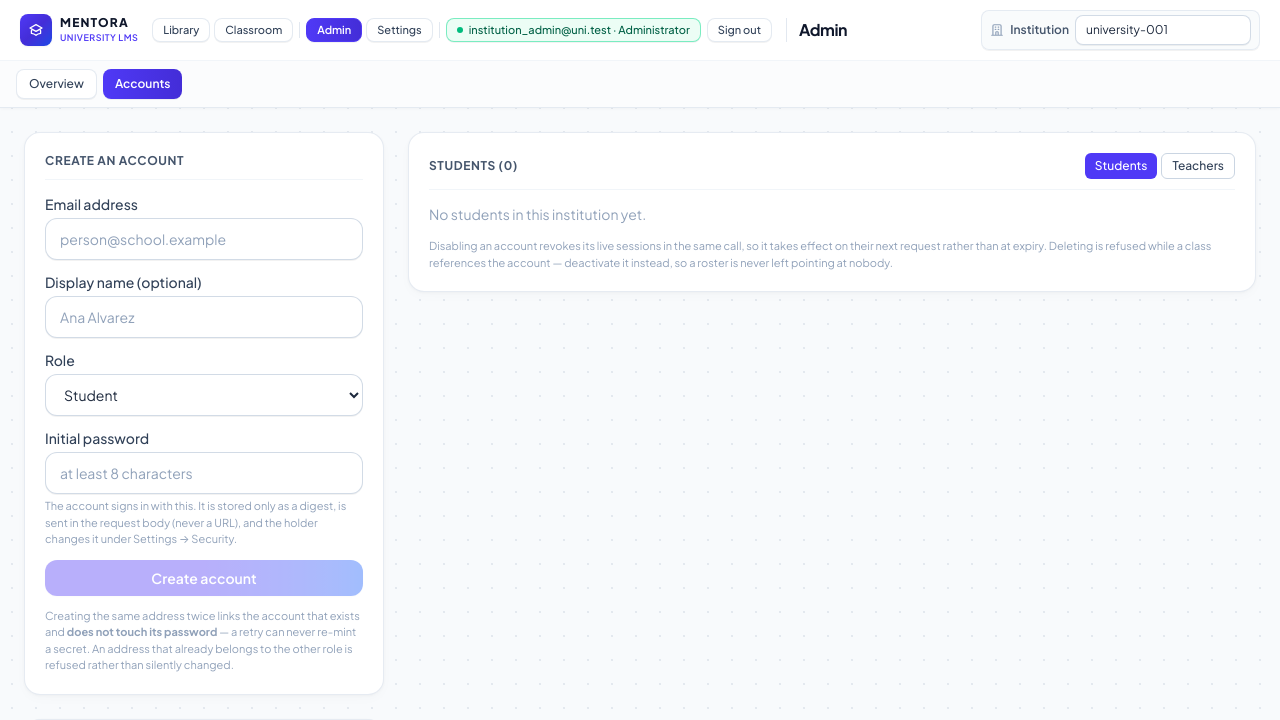
Scenario: AdminPage — the directory, by capability › creates a teacher with a password the administrator chooses
This screenshot has width=1280, height=720.
Type "new@school.example" into the field labelled "Email address" at (204, 239), box [45,218,363,260]
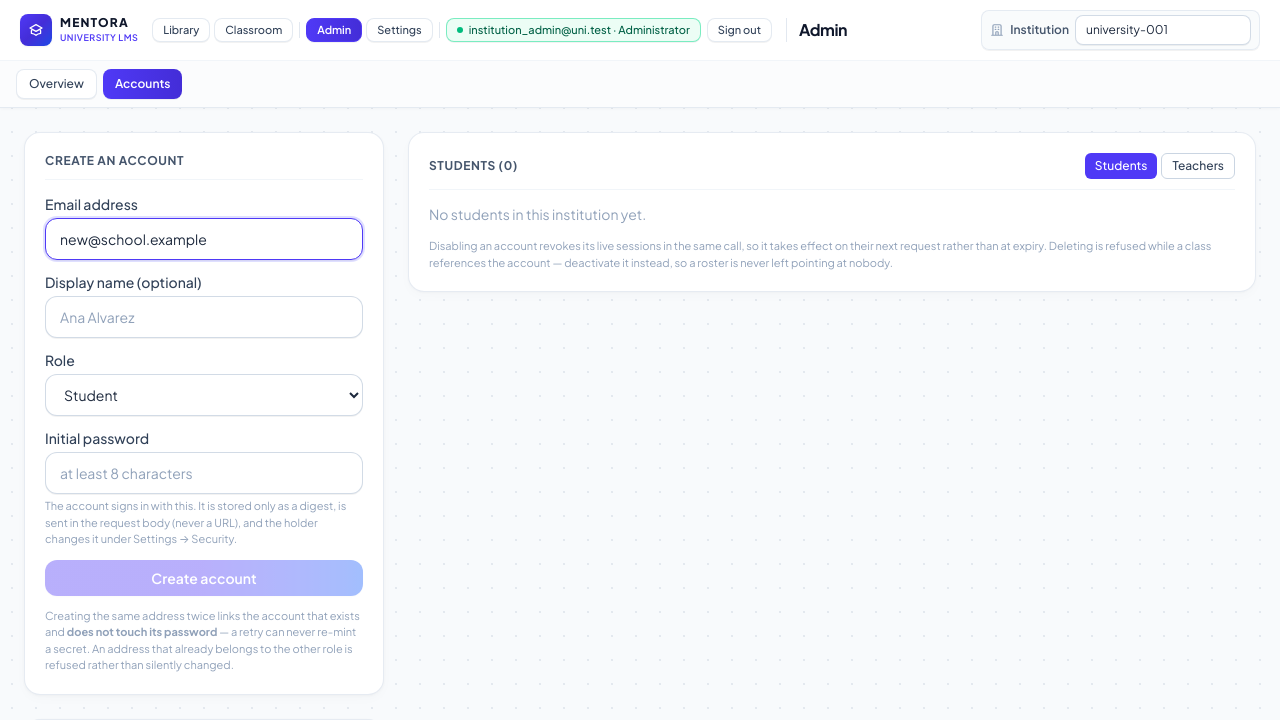
Select "Teacher" in the dropdown labelled "Role" at (204, 395), box [45,374,363,416]
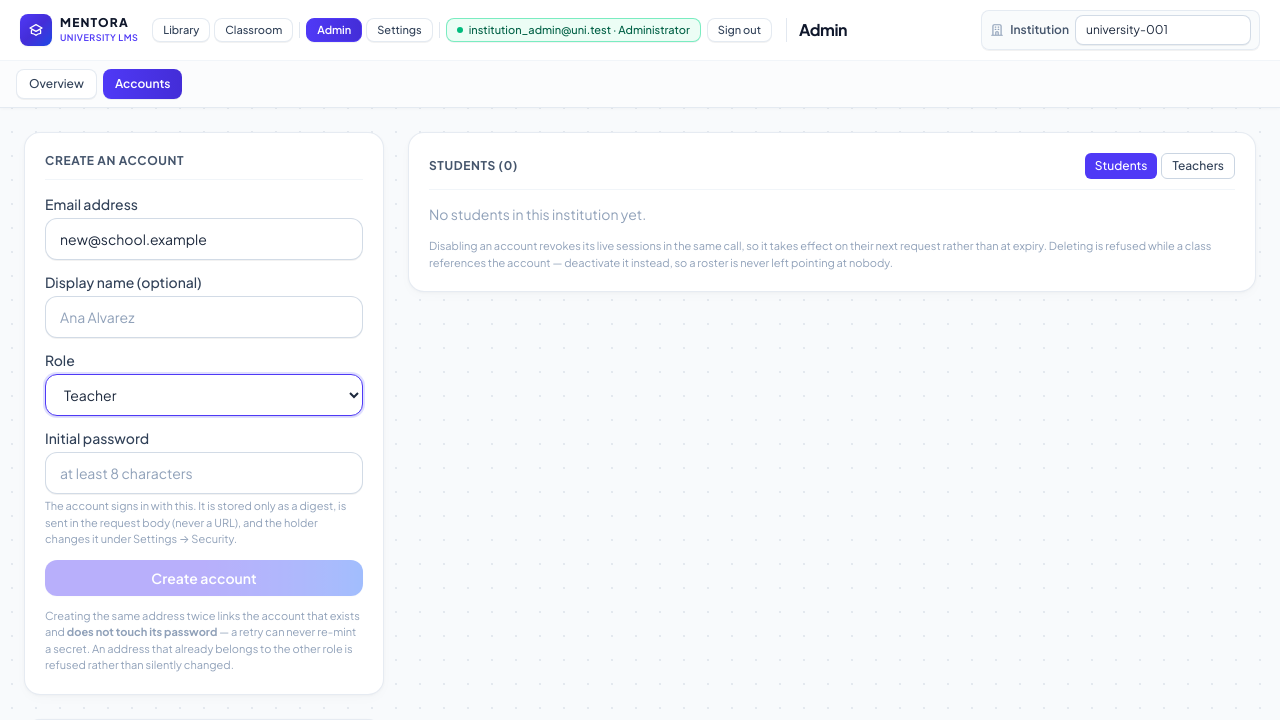
Type "new-pass-1" into the password field labelled "Initial password" at (204, 473), box [45,452,363,494]
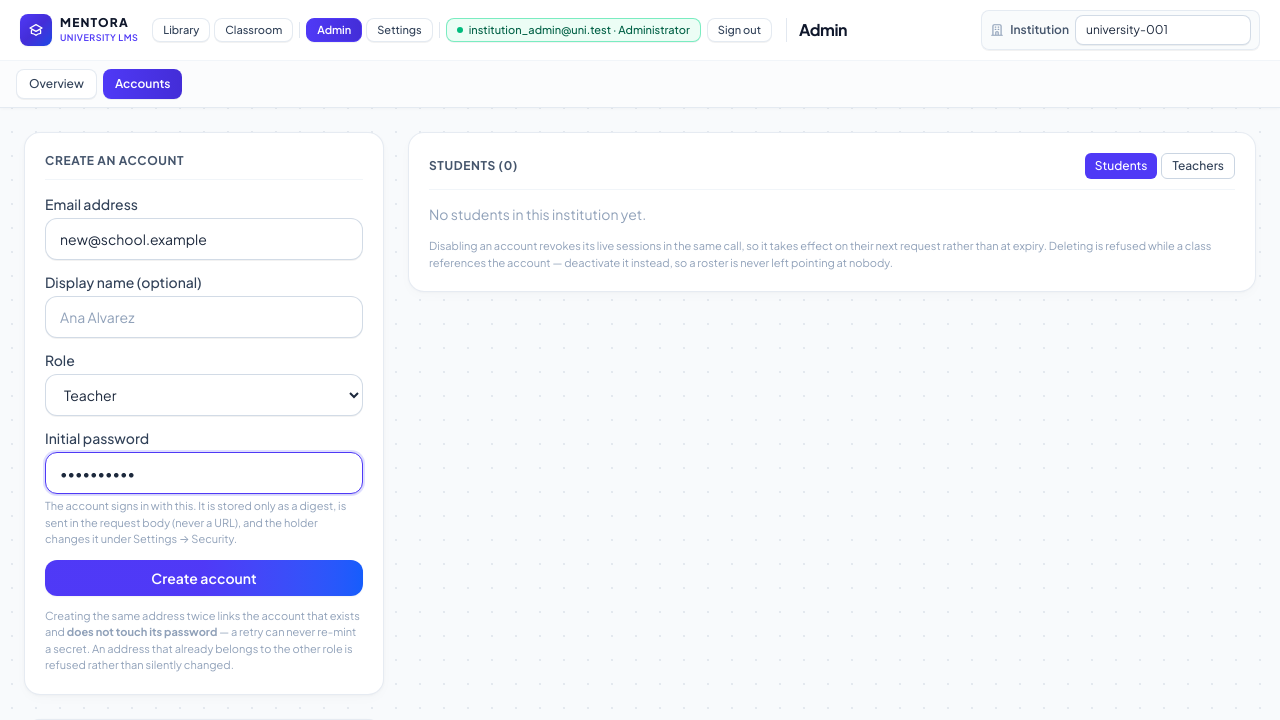
Click the button "Create account" at (204, 578), box [45,560,363,596]
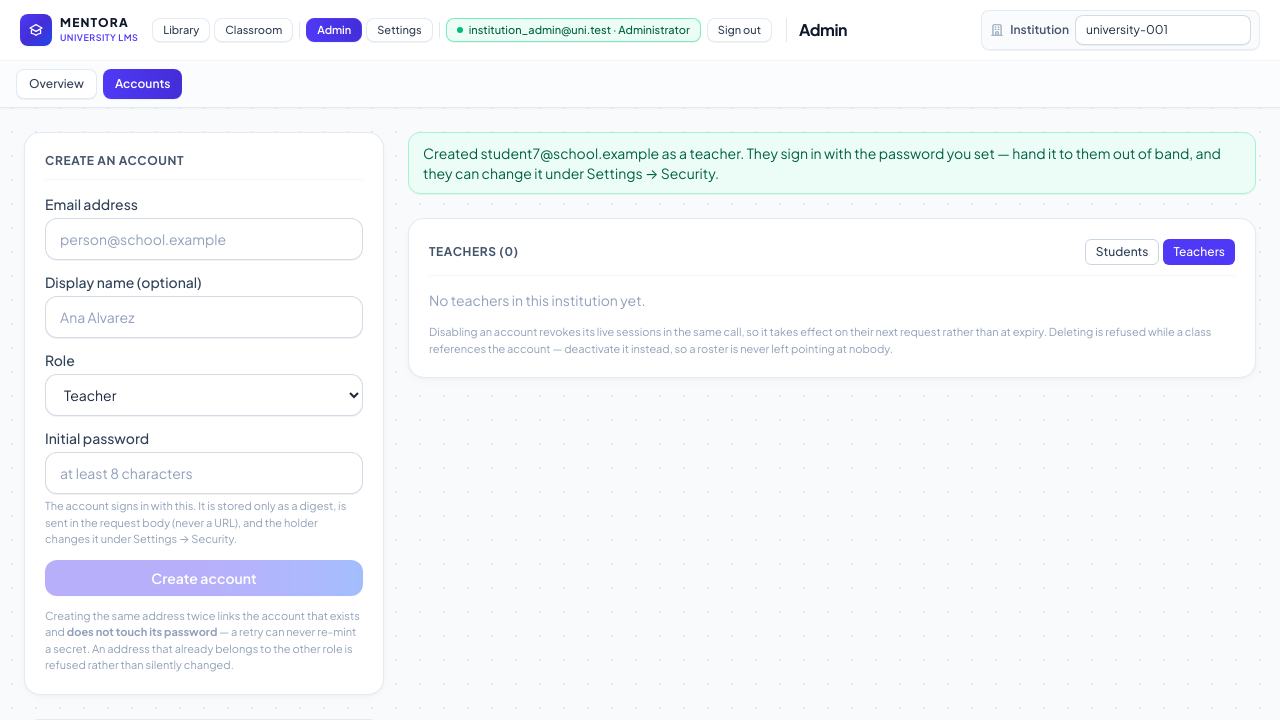
Check: the text "sign in with the password you set" is shown, box [423,144,1221,182]
